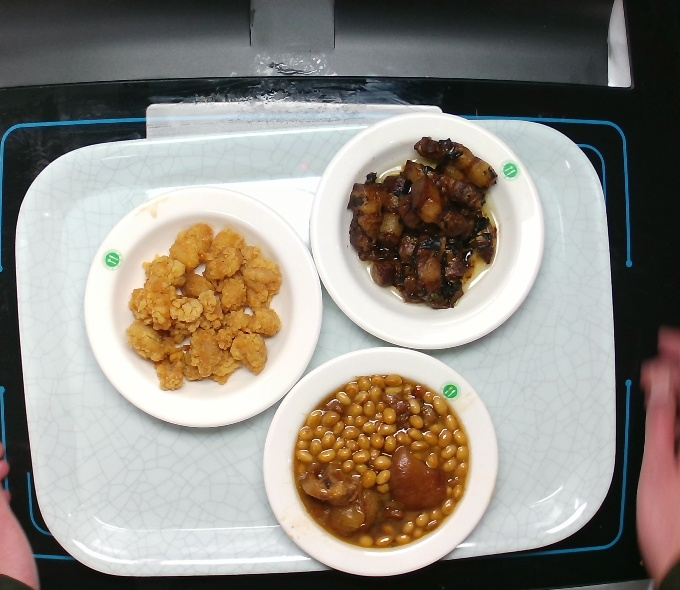wcq-GanCaiRou: (345, 136, 499, 312)
wcq-HuangDouZhuJiao: (291, 373, 473, 551)
wcq-JiMiHua: (126, 219, 284, 394)
